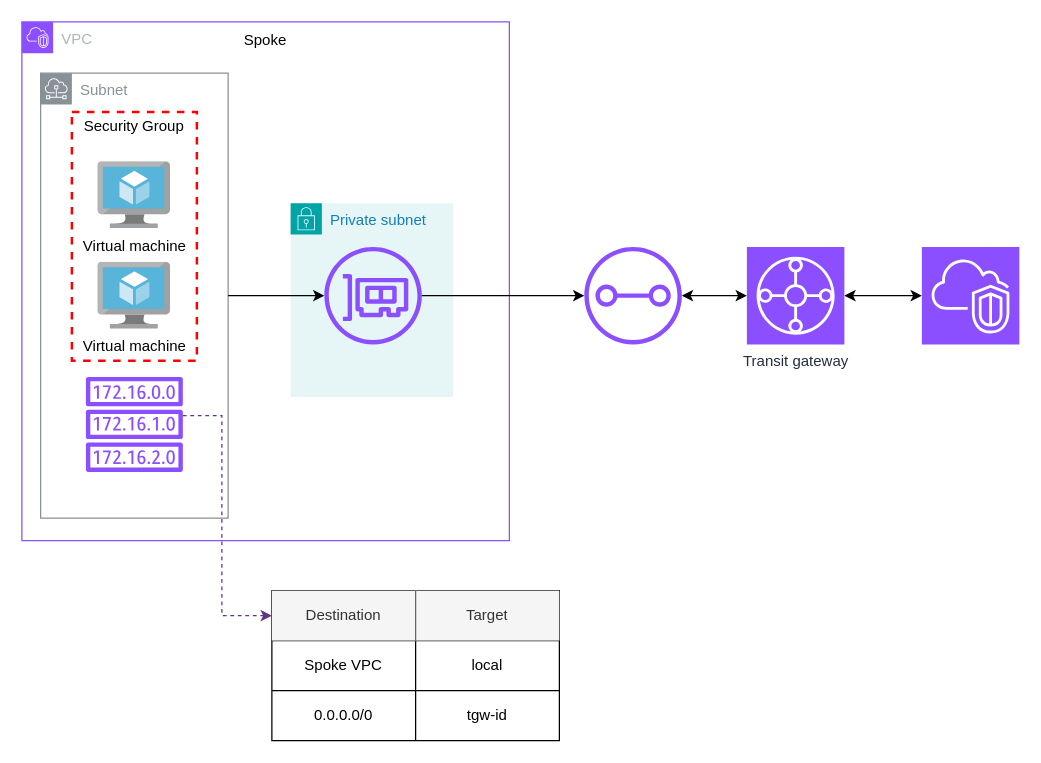
Image size: 1041x763. Some labels were removed from this diagram. The shapes that lost their labels are listed below. From the top down, each one's centre as x and y in pixels, then its label:
At [372,295]: "Transit gateway network interface".
At [632,295]: "Spoke transit gateway attachment".
At [970,295]: "Hub VPC".
At [133,423]: "Route table (to transit gateway)".
